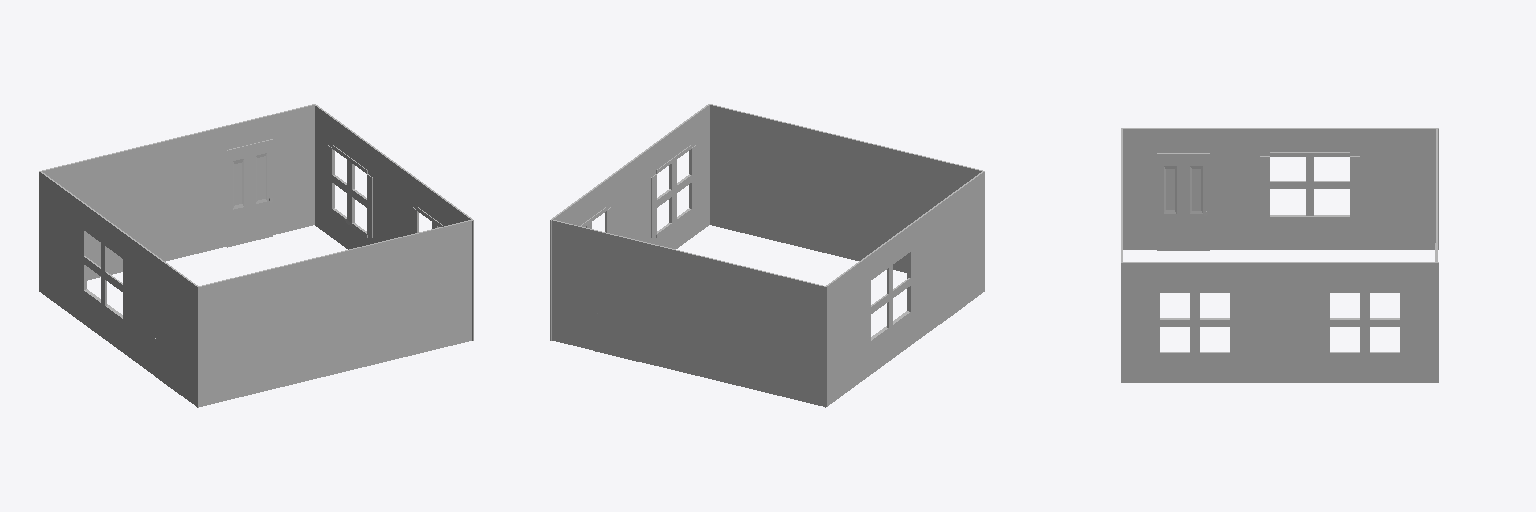
File: kamer 3 electric boogaloo.obj
3 renders of one model, left to right at view 1: azimuth 30°, elevation 25°; view 2: azimuth 150°, elevation 25°; view 3: azimuth 270°, elevation 25°, orthographic.
Visible parts, largest first — view 1: Cube.002_Cube.002_Muur, Cube.003_Cube.003_Muur, Cube.001_Cube.001_Material, Cube_Cube_Material, Cube.005_Cube.005_Deur; view 2: Cube.003_Cube.003_Muur, Cube.002_Cube.002_Muur, Cube.001_Cube.001_Material, Cube_Cube_Material; view 3: Cube_Cube_Material, Cube.001_Cube.001_Material, Cube.004_Cube.004_Deur.
Boxes of the visible parts, box(x1,y1,x2,y2) form: Cube.002_Cube.002_Muur: box(197, 219, 472, 407); Cube.003_Cube.003_Muur: box(39, 104, 315, 291); Cube.001_Cube.001_Material: box(40, 171, 199, 407); Cube_Cube_Material: box(314, 104, 473, 340); Cube.005_Cube.005_Deur: box(227, 139, 272, 247); Cube.003_Cube.003_Muur: box(551, 219, 827, 406); Cube.002_Cube.002_Muur: box(710, 104, 984, 291); Cube.001_Cube.001_Material: box(824, 171, 983, 407); Cube_Cube_Material: box(550, 104, 709, 340); Cube_Cube_Material: box(1121, 262, 1438, 382); Cube.001_Cube.001_Material: box(1123, 128, 1438, 249); Cube.004_Cube.004_Deur: box(1157, 153, 1209, 250).
Bounding box in the file's own units: 14.95 × 6.22 × 14.89.